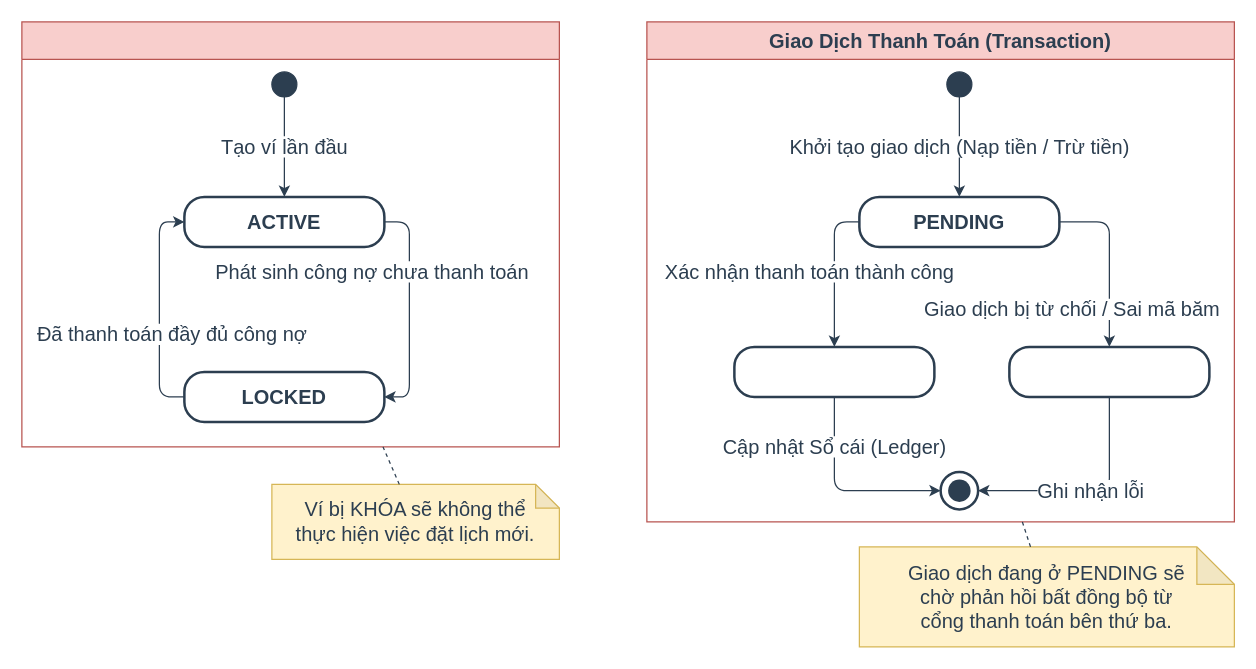
Image size: 1256x669. Some labels were removed from this diagram. Here are the shapes that lost their labels. From the top down, the box of each, then its label:
(21, 21, 559, 447): Ví Điện Tử (Wallet)
(732, 345, 935, 398): COMPLETED
(1008, 345, 1210, 398): FAILED
